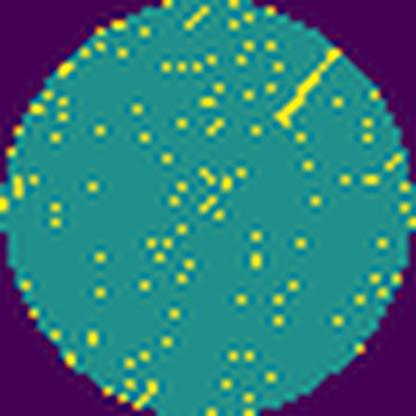Scratch: (270, 47, 346, 132)
